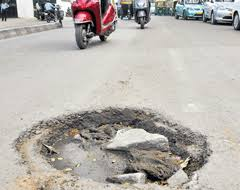Manhole-Open: (13, 88, 222, 185)
